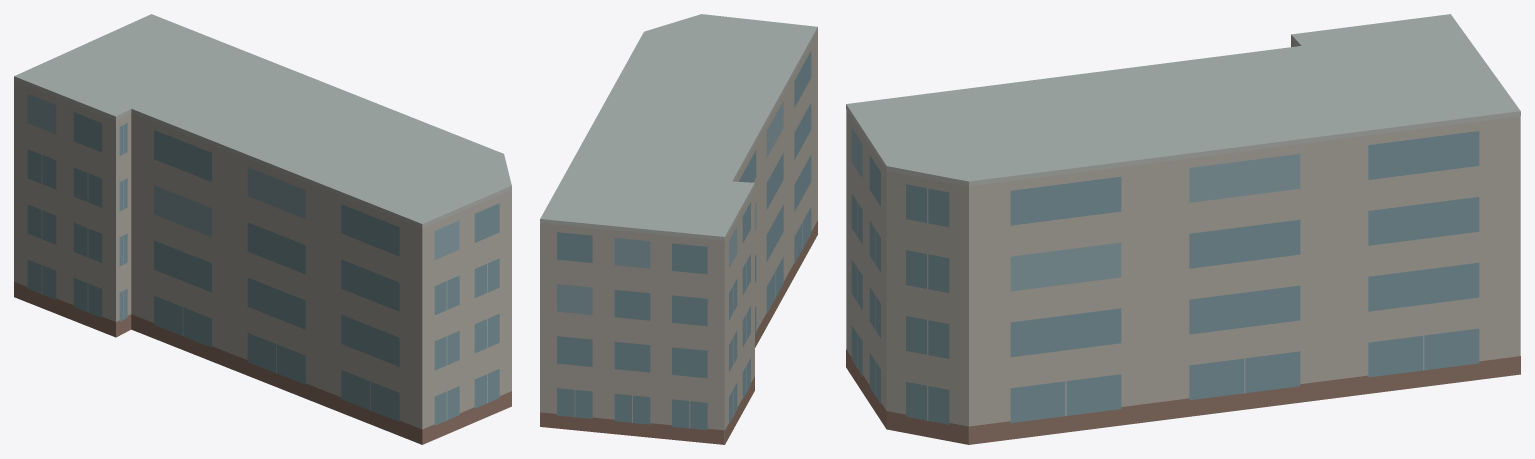
File: survey-upis-33015411.glb
3 renders of one model, left to right at view 1: azimuth 30°, elevation 25°; view 2: azimuth 150°, elevation 25°; view 3: azimuth 270°, elevation 25°, orthographic. The views are drawn at different scales.
Visible parts, largest first — view 1: survey-upis-33015411.tmp; view 2: survey-upis-33015411.tmp; view 3: survey-upis-33015411.tmp.
Part boxes in pixels (left/top/right/bottom): survey-upis-33015411.tmp: left=14, top=14, right=511, bottom=444; survey-upis-33015411.tmp: left=540, top=14, right=817, bottom=444; survey-upis-33015411.tmp: left=846, top=14, right=1520, bottom=444.
Bounding box in the file's own units: 17.47 × 12.8 × 29.73.
